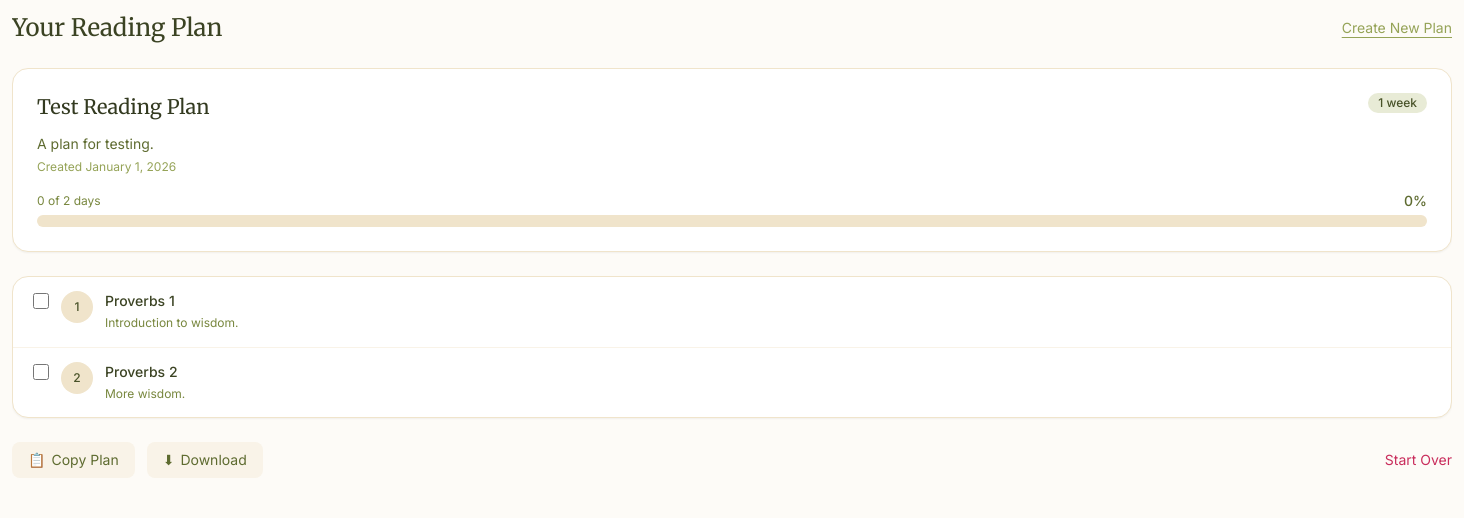
Test case: ReadingPlanPage › Start Over clears localStorage when confirmed
This screenshot has width=1464, height=518.
Click the button "Start Over".
click(1418, 460)  # box [1385,450,1452,470]
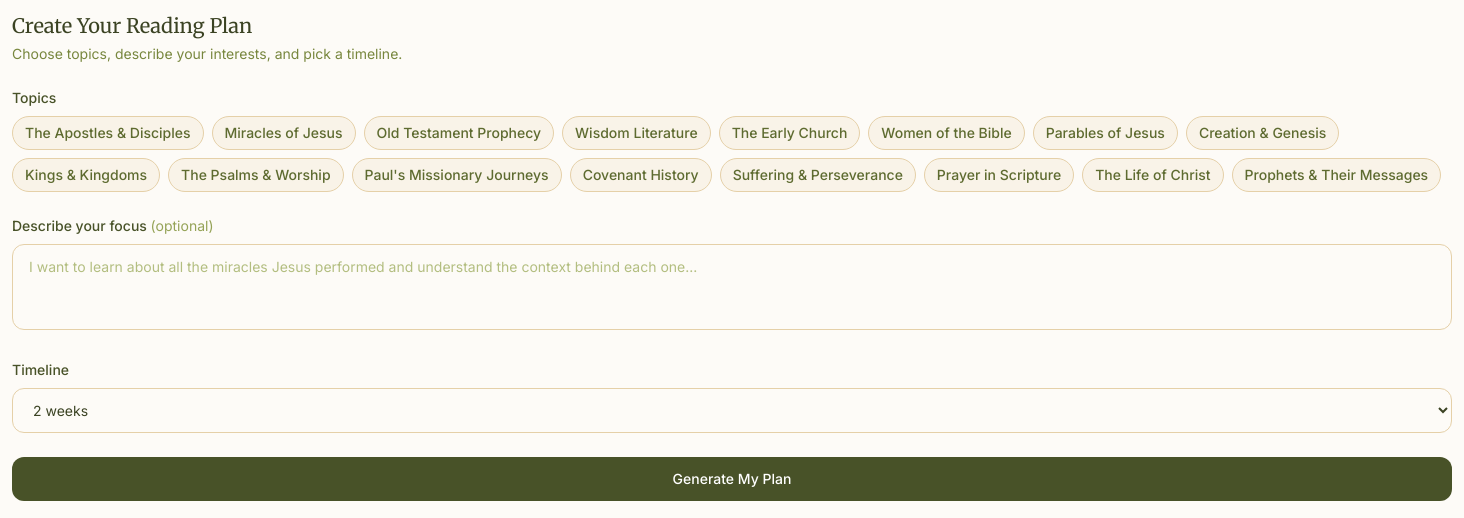
Expected: the heading "Create Your Reading Plan" is shown, [12,13,252,38]
